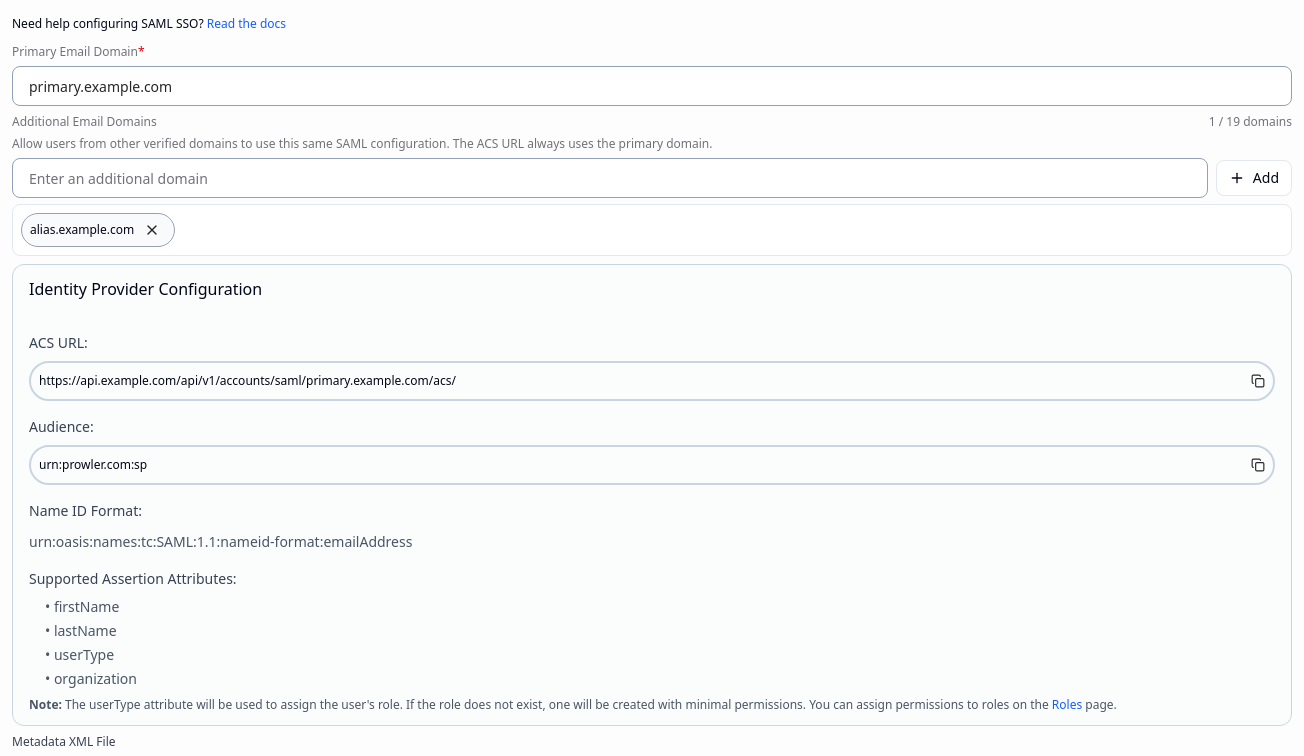
Test: SamlConfigForm › rejects a duplicate alias before submission
Step 1. Type " ALIAS.EXAMPLE.COM " into the field labelled "Additional Email Domain" → [610, 178], box [12,158,1208,198]
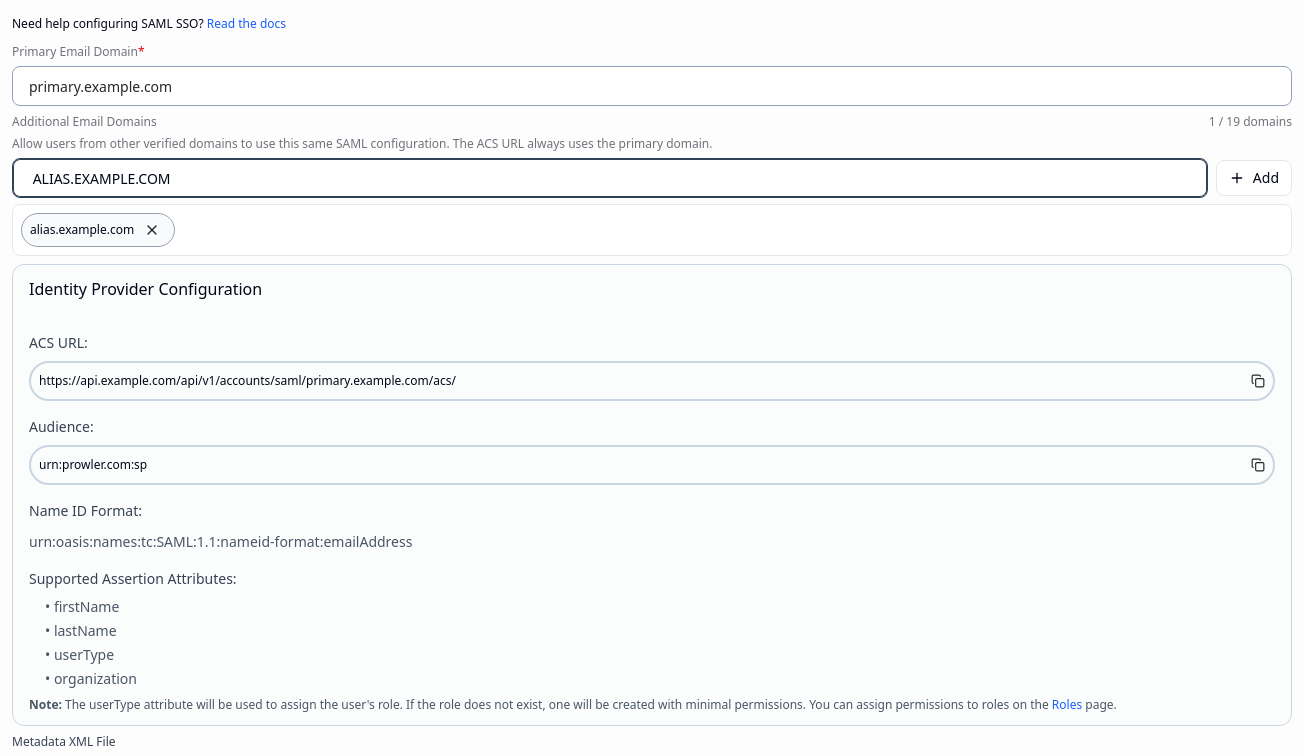
Step 2. Click the button with aria-label "Add domain" → [1254, 178], box [1216,160,1292,196]
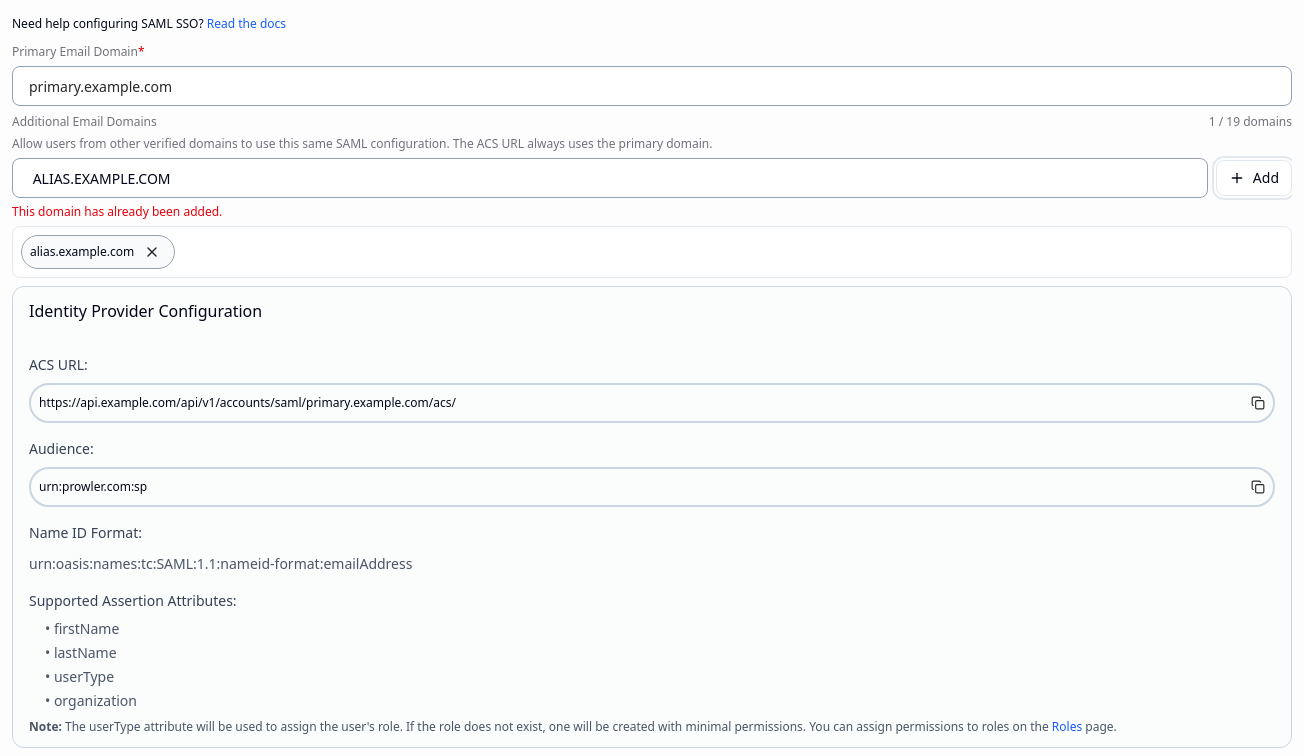
expect the text "alias.example.com" is shown once: met, box [21,235,175,269]
expect the text "This domain has already been added." is shown: met, box [12,203,222,220]
